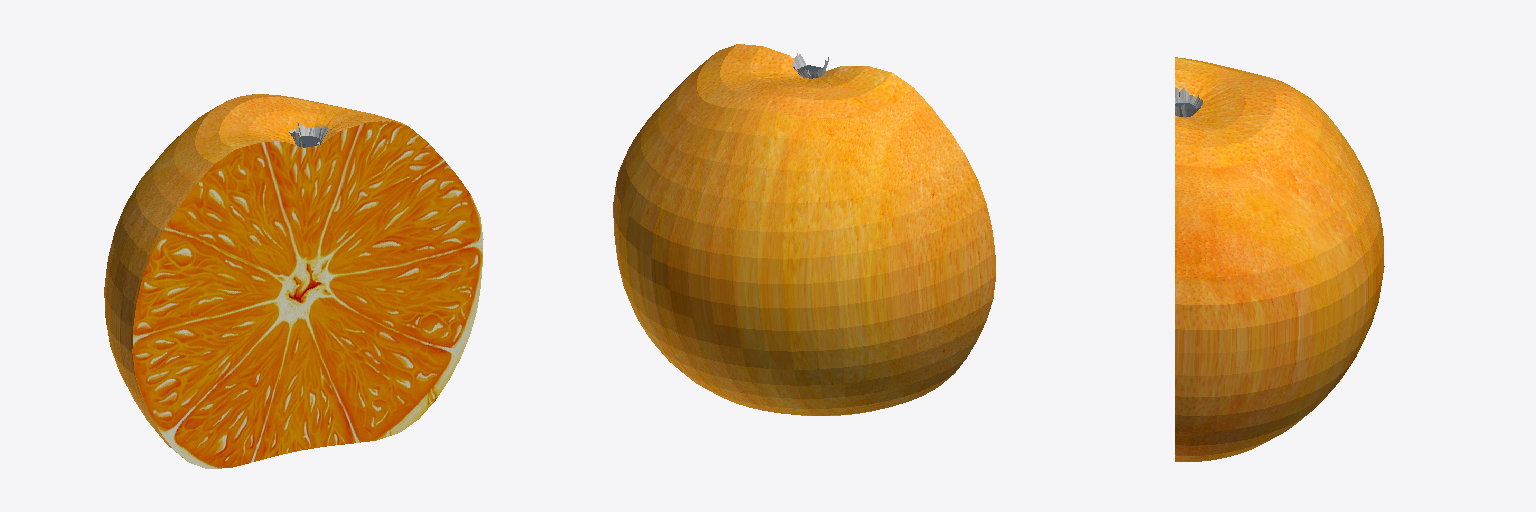
3 views of the same model, side by side, from view 1: azimuth 30°, elevation 25°; view 2: azimuth 150°, elevation 25°; view 3: azimuth 270°, elevation 25° (orthographic).
Parts seen in each view (by area): view 1: Grapefruit_Top02, Grapefruit02; view 2: Grapefruit02, Grapefruit_Top02; view 3: Grapefruit02, Grapefruit_Top02.
Boxes of the visible parts, box(x1,y1,x2,y2) form: Grapefruit_Top02: box(132, 94, 483, 468); Grapefruit02: box(104, 106, 217, 457); Grapefruit02: box(613, 55, 995, 415); Grapefruit_Top02: box(697, 44, 912, 118); Grapefruit02: box(1175, 85, 1384, 461); Grapefruit_Top02: box(1175, 57, 1300, 167).
Size of the model in its own units: 60.89 by 54.06 by 31.32.
4 materials, 2 textured.